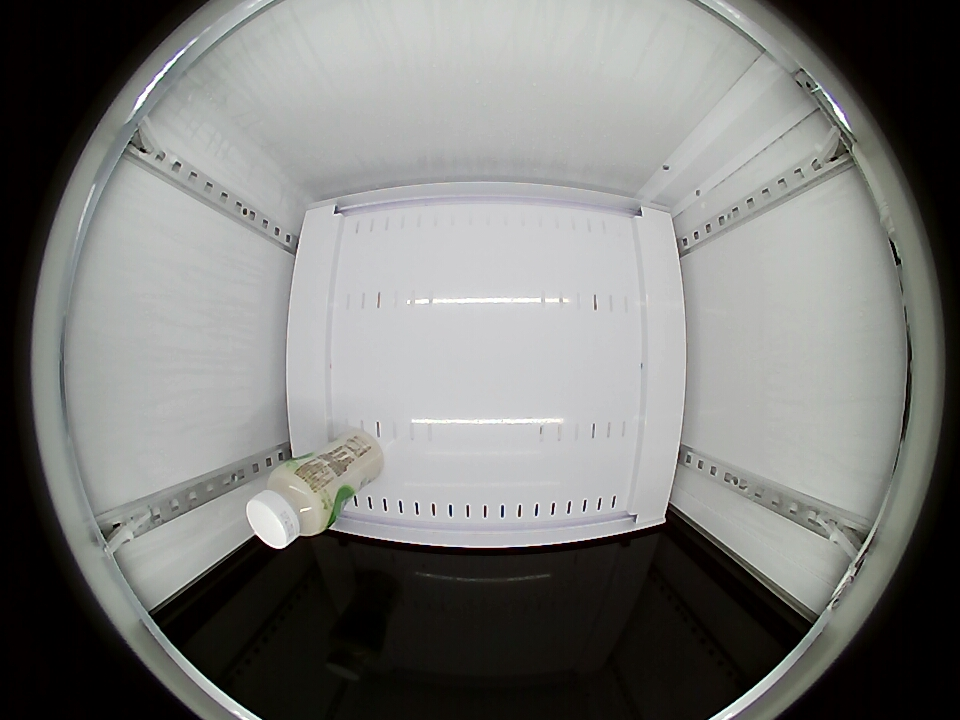yousuanru: (246, 463, 334, 549)
